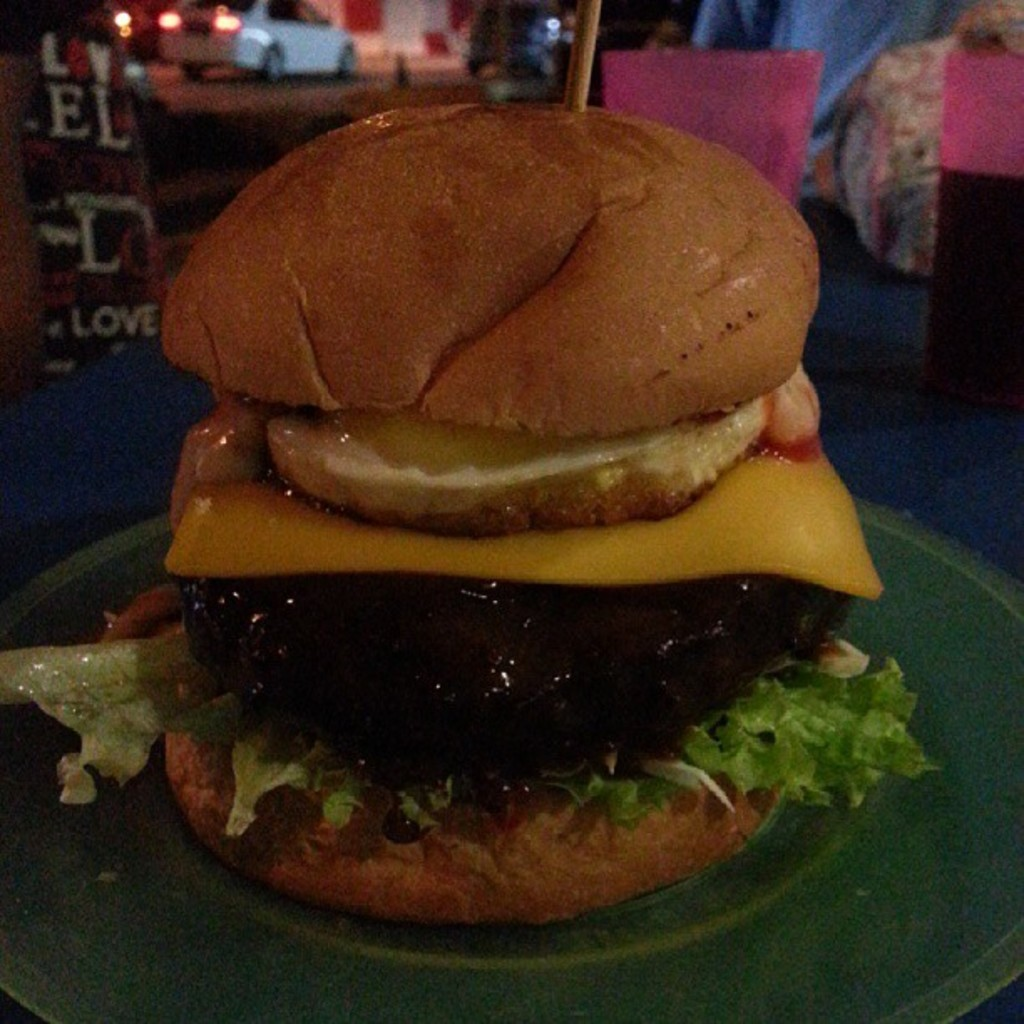Hamburger: (0, 100, 948, 925)
